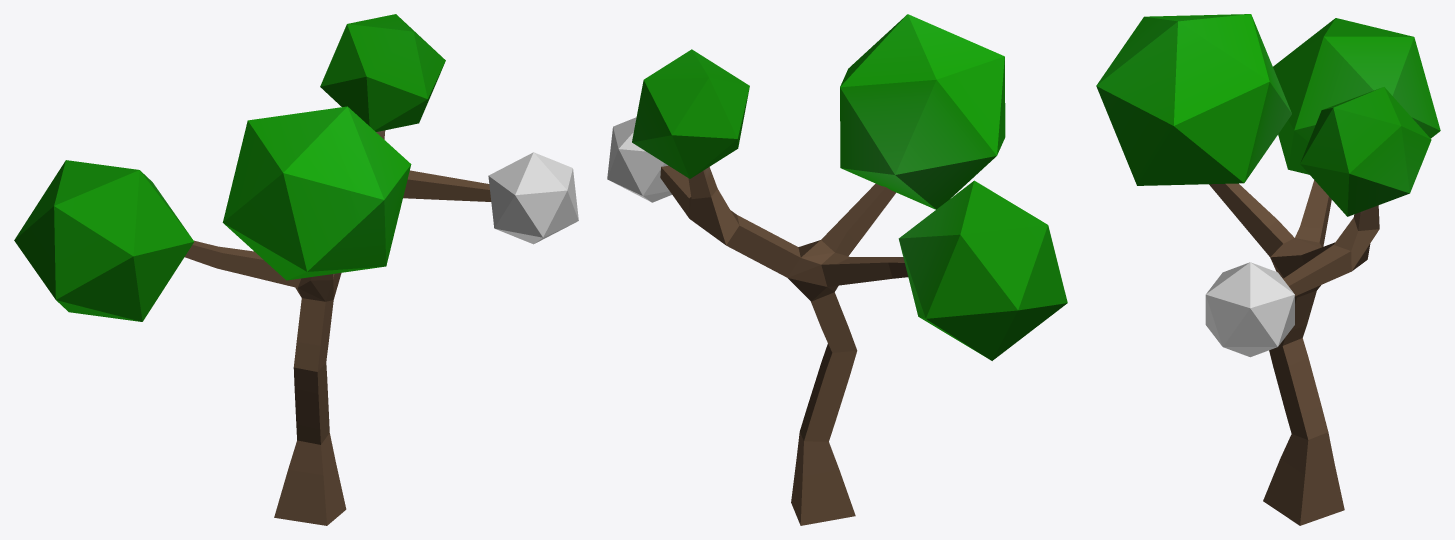
The model's file is Branched Tree.dae.
3 views of the same model, side by side, from view 1: azimuth 30°, elevation 25°; view 2: azimuth 150°, elevation 25°; view 3: azimuth 270°, elevation 25° (orthographic). The views are drawn at different scales.
Visible parts, largest first — view 1: Cube; view 2: Cube; view 3: Cube.
Part boxes in pixels (x1,y1,x2,y2): Cube: [14, 14, 578, 525]; Cube: [607, 14, 1067, 525]; Cube: [1096, 14, 1440, 525].
Bounding box in the file's own units: 11.04 × 6.56 × 9.99.
